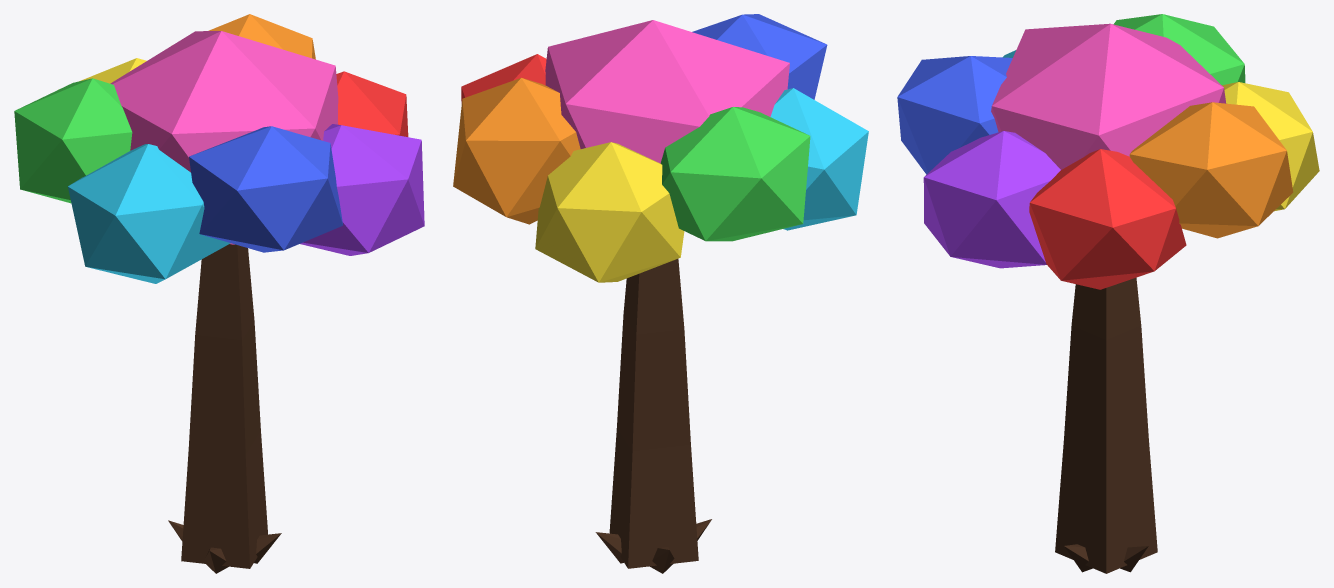
File: RainbowTree.fbx
3 views of the same model, side by side, from view 1: azimuth 30°, elevation 25°; view 2: azimuth 150°, elevation 25°; view 3: azimuth 270°, elevation 25° (orthographic). The views are drawn at different scales.
Visible parts, largest first — view 1: RainbowTree; view 2: RainbowTree; view 3: RainbowTree.
Boxes of the visible parts, left/top/right/bottom form: RainbowTree: left=14, top=14, right=424, bottom=573; RainbowTree: left=453, top=14, right=868, bottom=573; RainbowTree: left=897, top=14, right=1319, bottom=573.
Bounding box in the file's own units: 9.47 × 13.28 × 9.45.
1 material, 1 textured.
